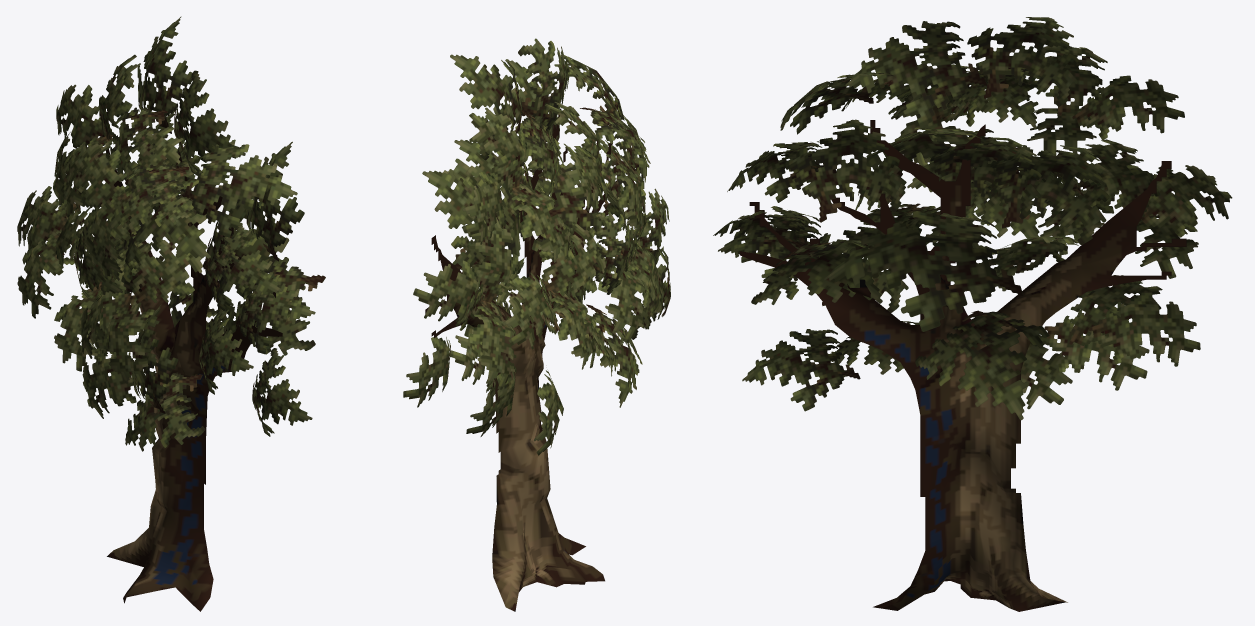
File: EnvFldMD_Tree_E_MA_LOD0_Painted.FBX
3 renders of one model, left to right at view 1: azimuth 30°, elevation 25°; view 2: azimuth 150°, elevation 25°; view 3: azimuth 270°, elevation 25°, orthographic. The views are drawn at different scales.
Visible parts, largest first — view 1: EnvFldMD_Tree_E_MA_LOD0_Painted; view 2: EnvFldMD_Tree_E_MA_LOD0_Painted; view 3: EnvFldMD_Tree_E_MA_LOD0_Painted.
Boxes of the visible parts, <box> form: EnvFldMD_Tree_E_MA_LOD0_Painted: <box>17,16,325,611</box>; EnvFldMD_Tree_E_MA_LOD0_Painted: <box>403,38,670,611</box>; EnvFldMD_Tree_E_MA_LOD0_Painted: <box>713,17,1232,611</box>.
Bounding box in the file's own units: 302 × 694 × 537.
2 materials, 2 textured.
